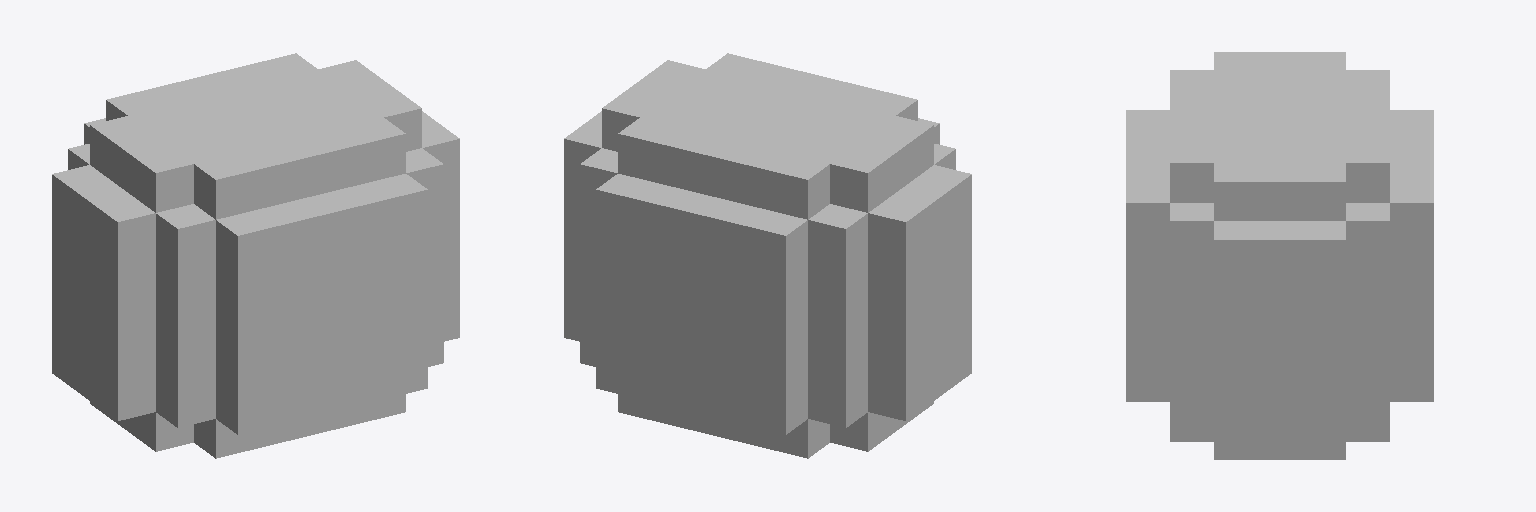
The model's file is shaspn.obj.
3 views of the same model, side by side, from view 1: azimuth 30°, elevation 25°; view 2: azimuth 150°, elevation 25°; view 3: azimuth 270°, elevation 25° (orthographic).
Parts seen in each view (by area): view 1: cube; view 2: cube; view 3: cube.
Boxes of the visible parts, x1,y1,x2,y2 form: cube: [52, 53, 459, 458]; cube: [564, 53, 971, 458]; cube: [1126, 52, 1433, 459].
Bounding box in the file's own units: 9 × 7 × 7.